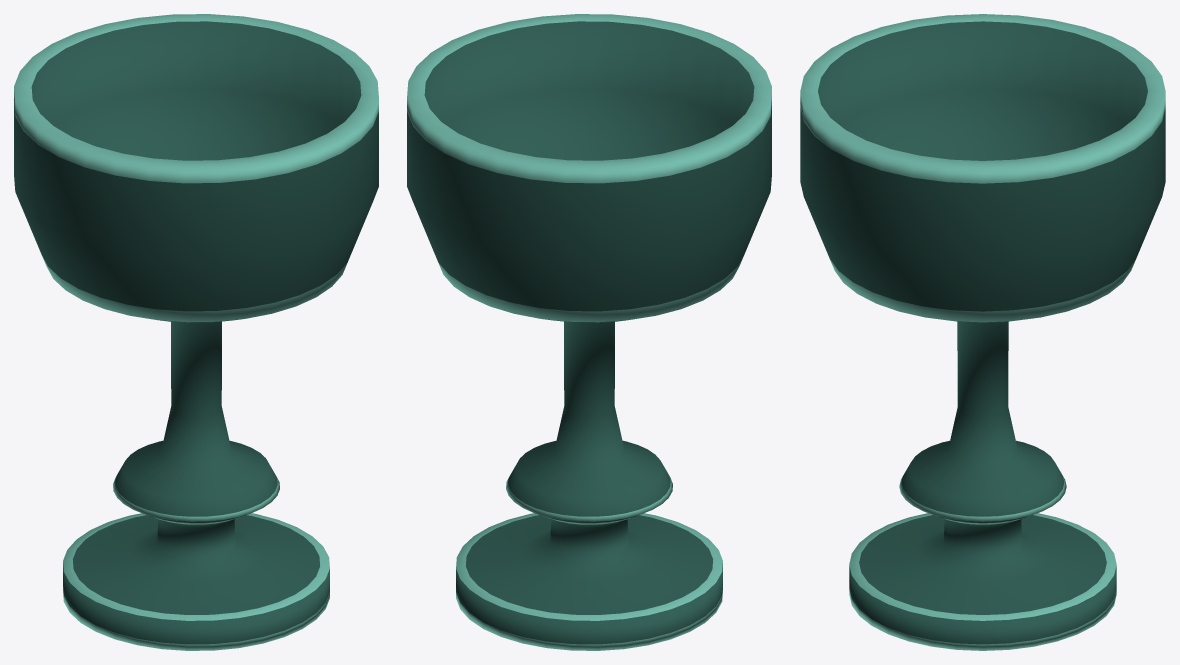
File: silver.glb
3 views of the same model, side by side, from view 1: azimuth 30°, elevation 25°; view 2: azimuth 150°, elevation 25°; view 3: azimuth 270°, elevation 25° (orthographic).
Visible parts, largest first — view 1: Cylinder; view 2: Cylinder; view 3: Cylinder.
Boxes of the visible parts, box(x1,y1,x2,y2) form: Cylinder: box(14, 14, 378, 650); Cylinder: box(407, 14, 771, 650); Cylinder: box(800, 14, 1165, 650).
Size of the model in its own units: 4.29 by 6.52 by 4.29.
